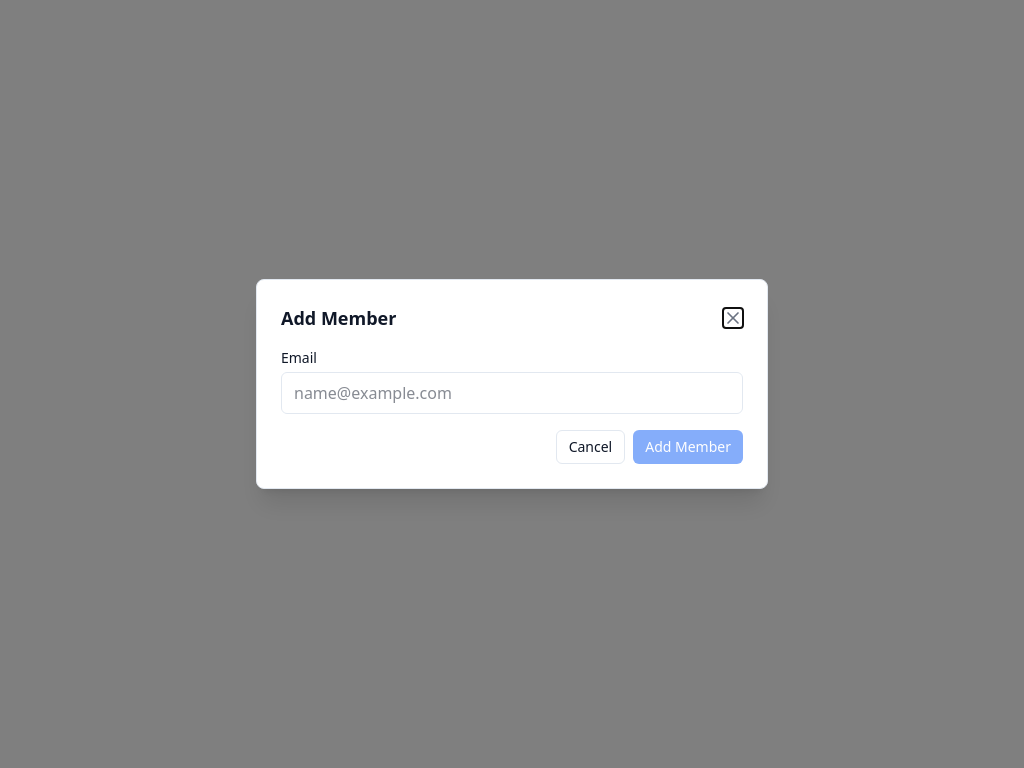
Test: AddMemberModal › shows "Searching…" while the lookup is fetching
This screenshot has width=1024, height=768.
Type "ada@example.com" into the field named "Member email" at (512, 393), box x1=281 y1=372 x2=743 y2=414
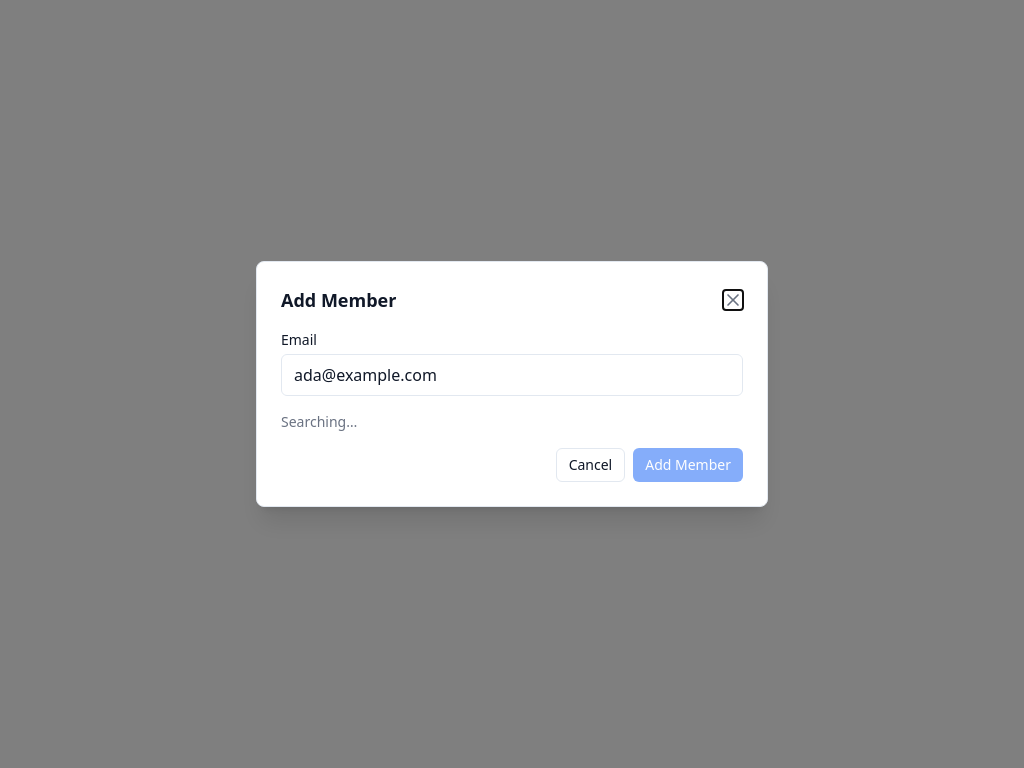
Result: the text "Searching…" is shown at x1=281 y1=412 x2=357 y2=431
